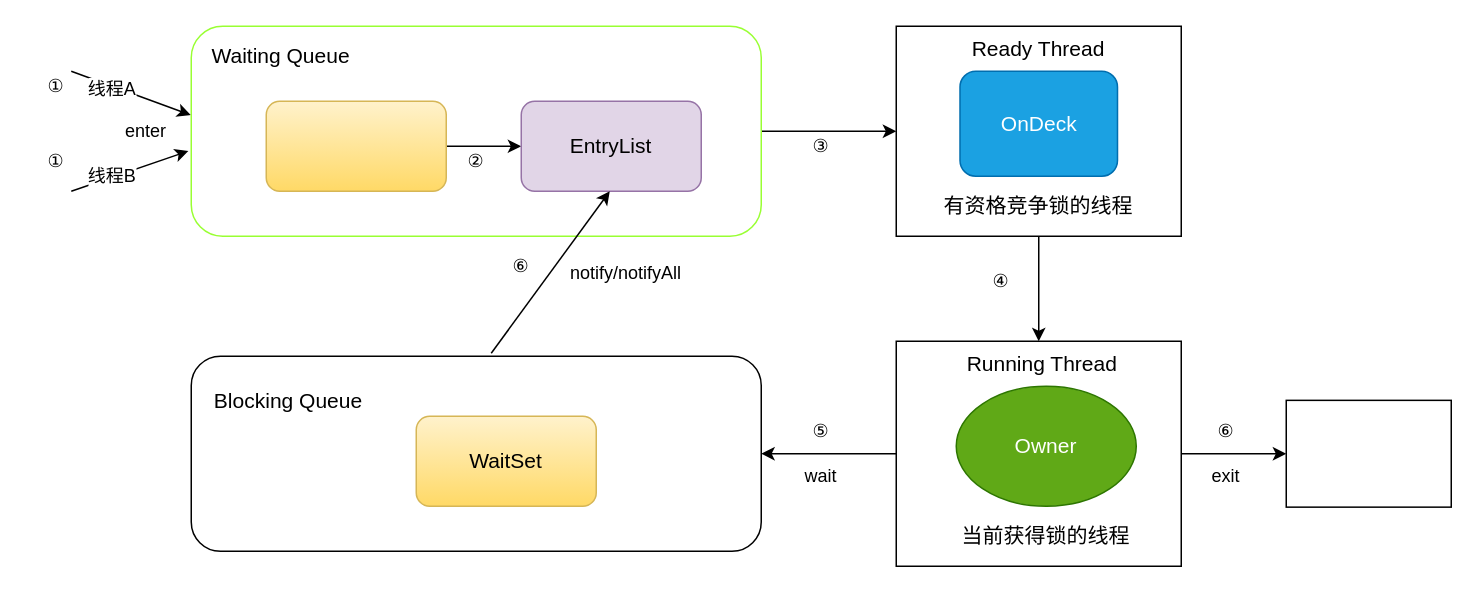
Some shapes in this 1478 by 593 pixel diagram are drawn without their labels. The shapes that lost their labels are listed below. From the top down, each one's centre as x and y in pixels, then its label:
At (x=355, y=145): "ContentationList".
At (x=1368, y=453): "释放锁".
